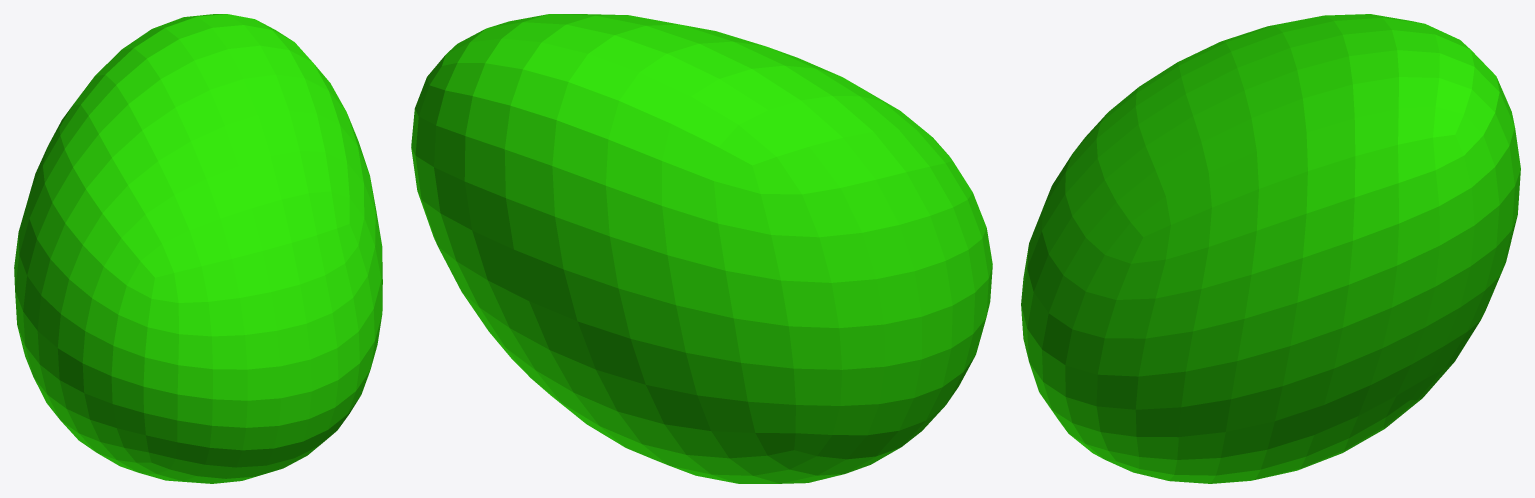
3 views of the same model, side by side, from view 1: azimuth 30°, elevation 25°; view 2: azimuth 150°, elevation 25°; view 3: azimuth 270°, elevation 25° (orthographic). The views are drawn at different scales.
Parts seen in each view (by area): view 1: Cube; view 2: Cube; view 3: Cube.
Boxes of the visible parts, bbox=[...] form: Cube: bbox=[14, 14, 382, 483]; Cube: bbox=[411, 14, 992, 483]; Cube: bbox=[1021, 14, 1520, 483].
Bounding box in the file's own units: 1.9 × 1.89 × 1.87.
